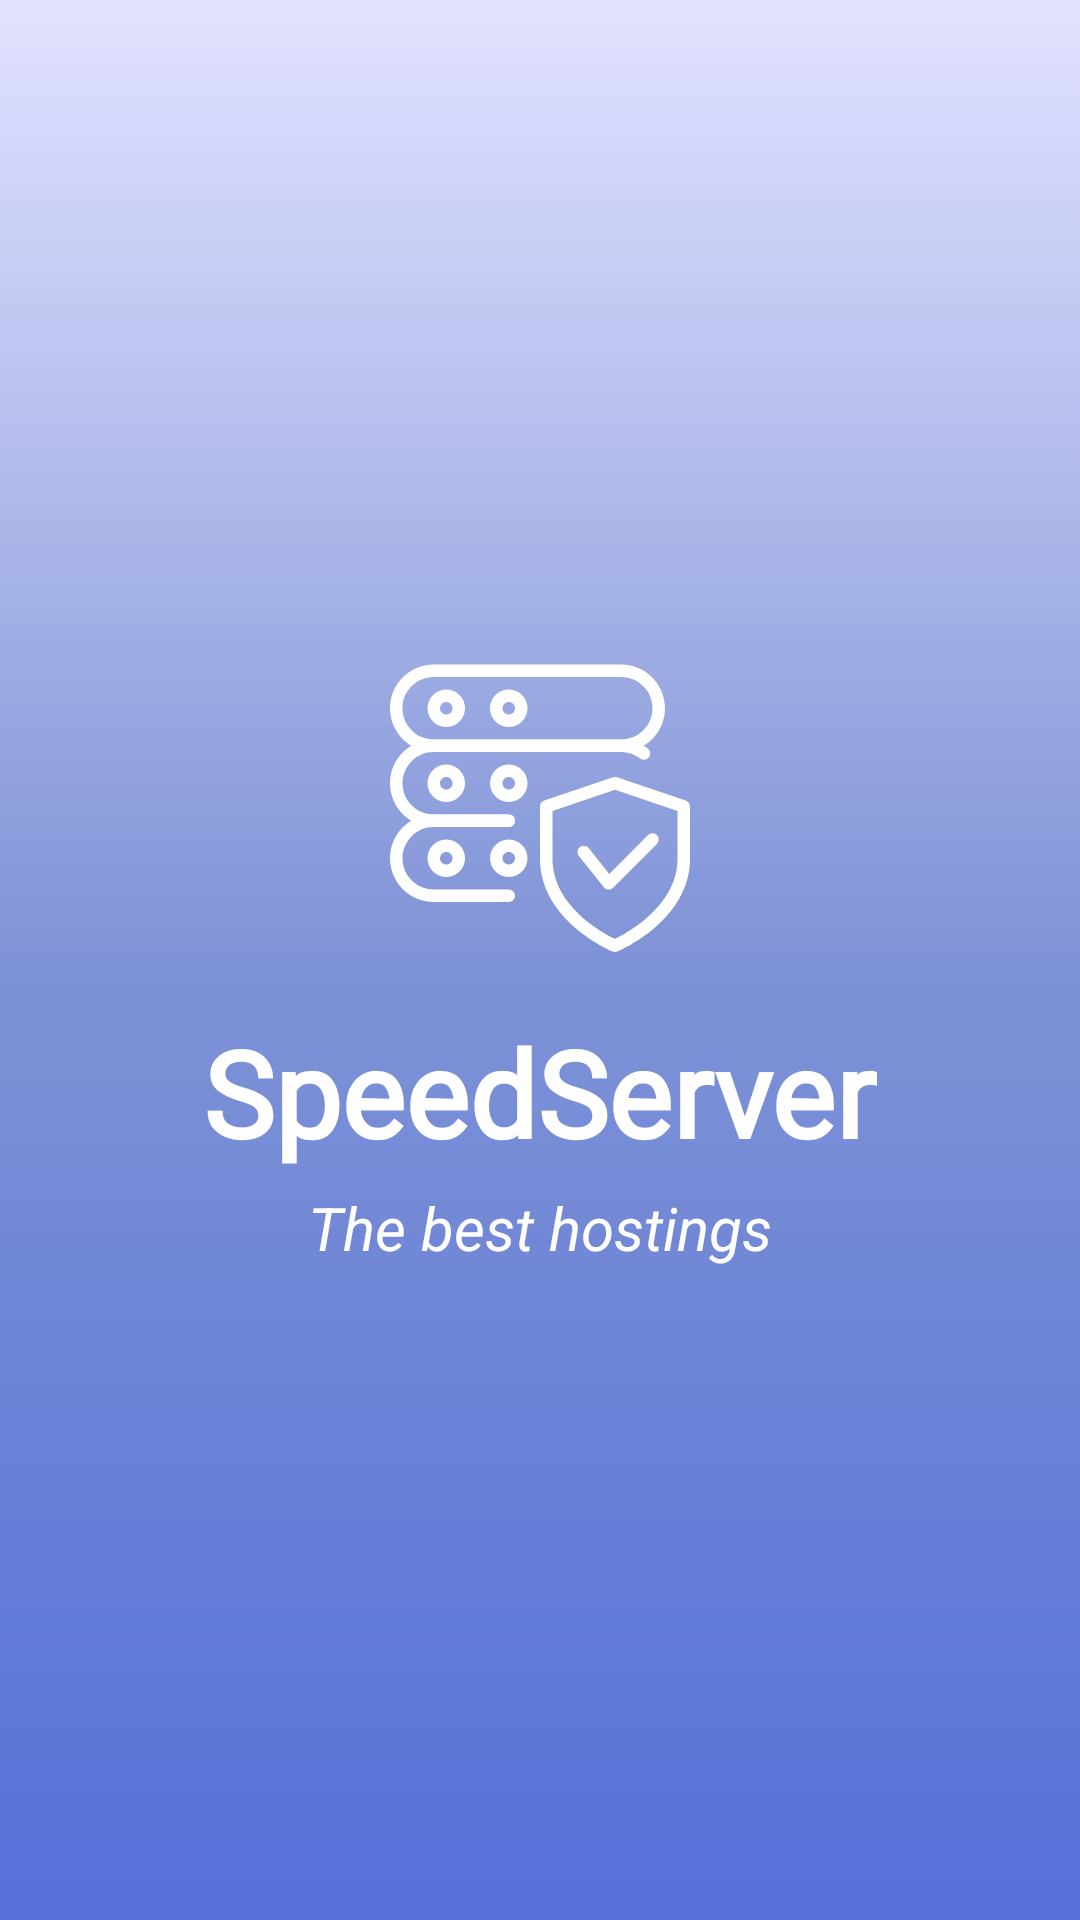

Locate icon controls on the screen. Image size 1080px×1920px, boxes as box(x1, y1, x2, y2).
seguro: box(390, 664, 690, 952)
